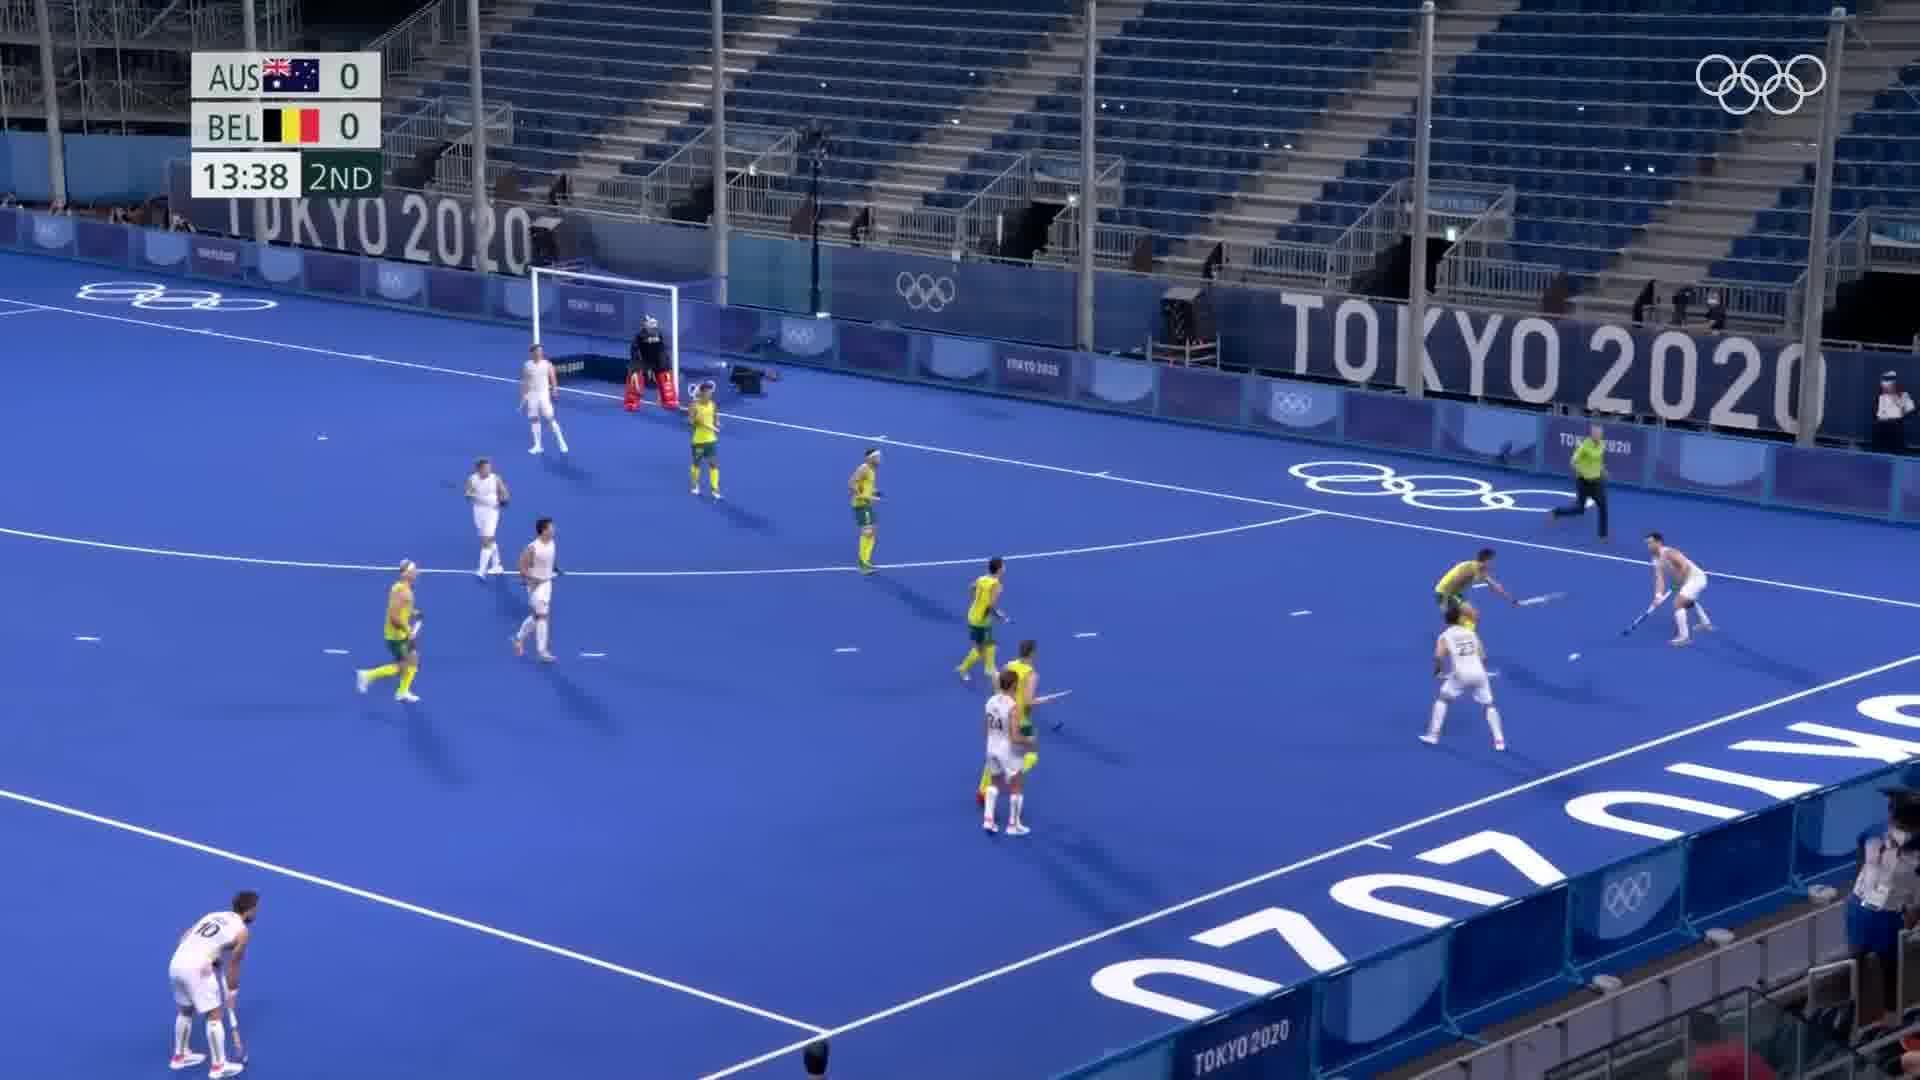ball: (1557, 645, 1588, 670)
